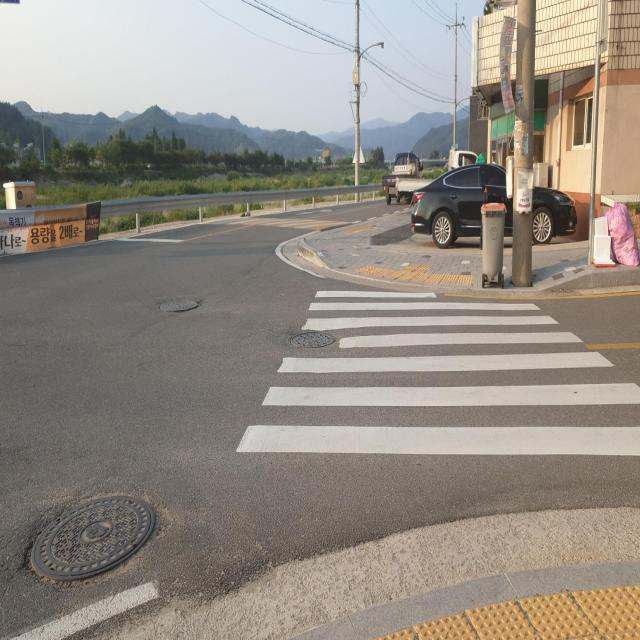횡단보도: (235, 288, 640, 458)
